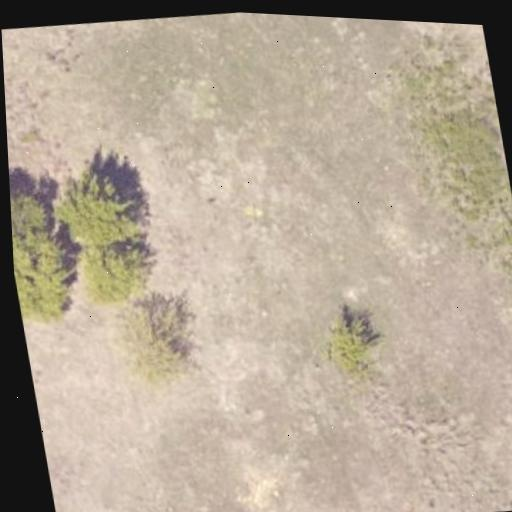tree-top: (57, 157, 161, 312), (106, 288, 210, 389), (9, 175, 77, 321), (314, 311, 387, 378)
